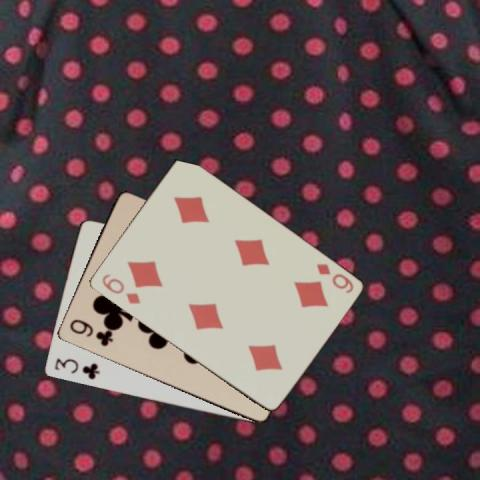3c: (50, 356, 100, 382)
6d: (98, 271, 142, 306), (313, 260, 354, 295)
9c: (66, 317, 114, 348)
